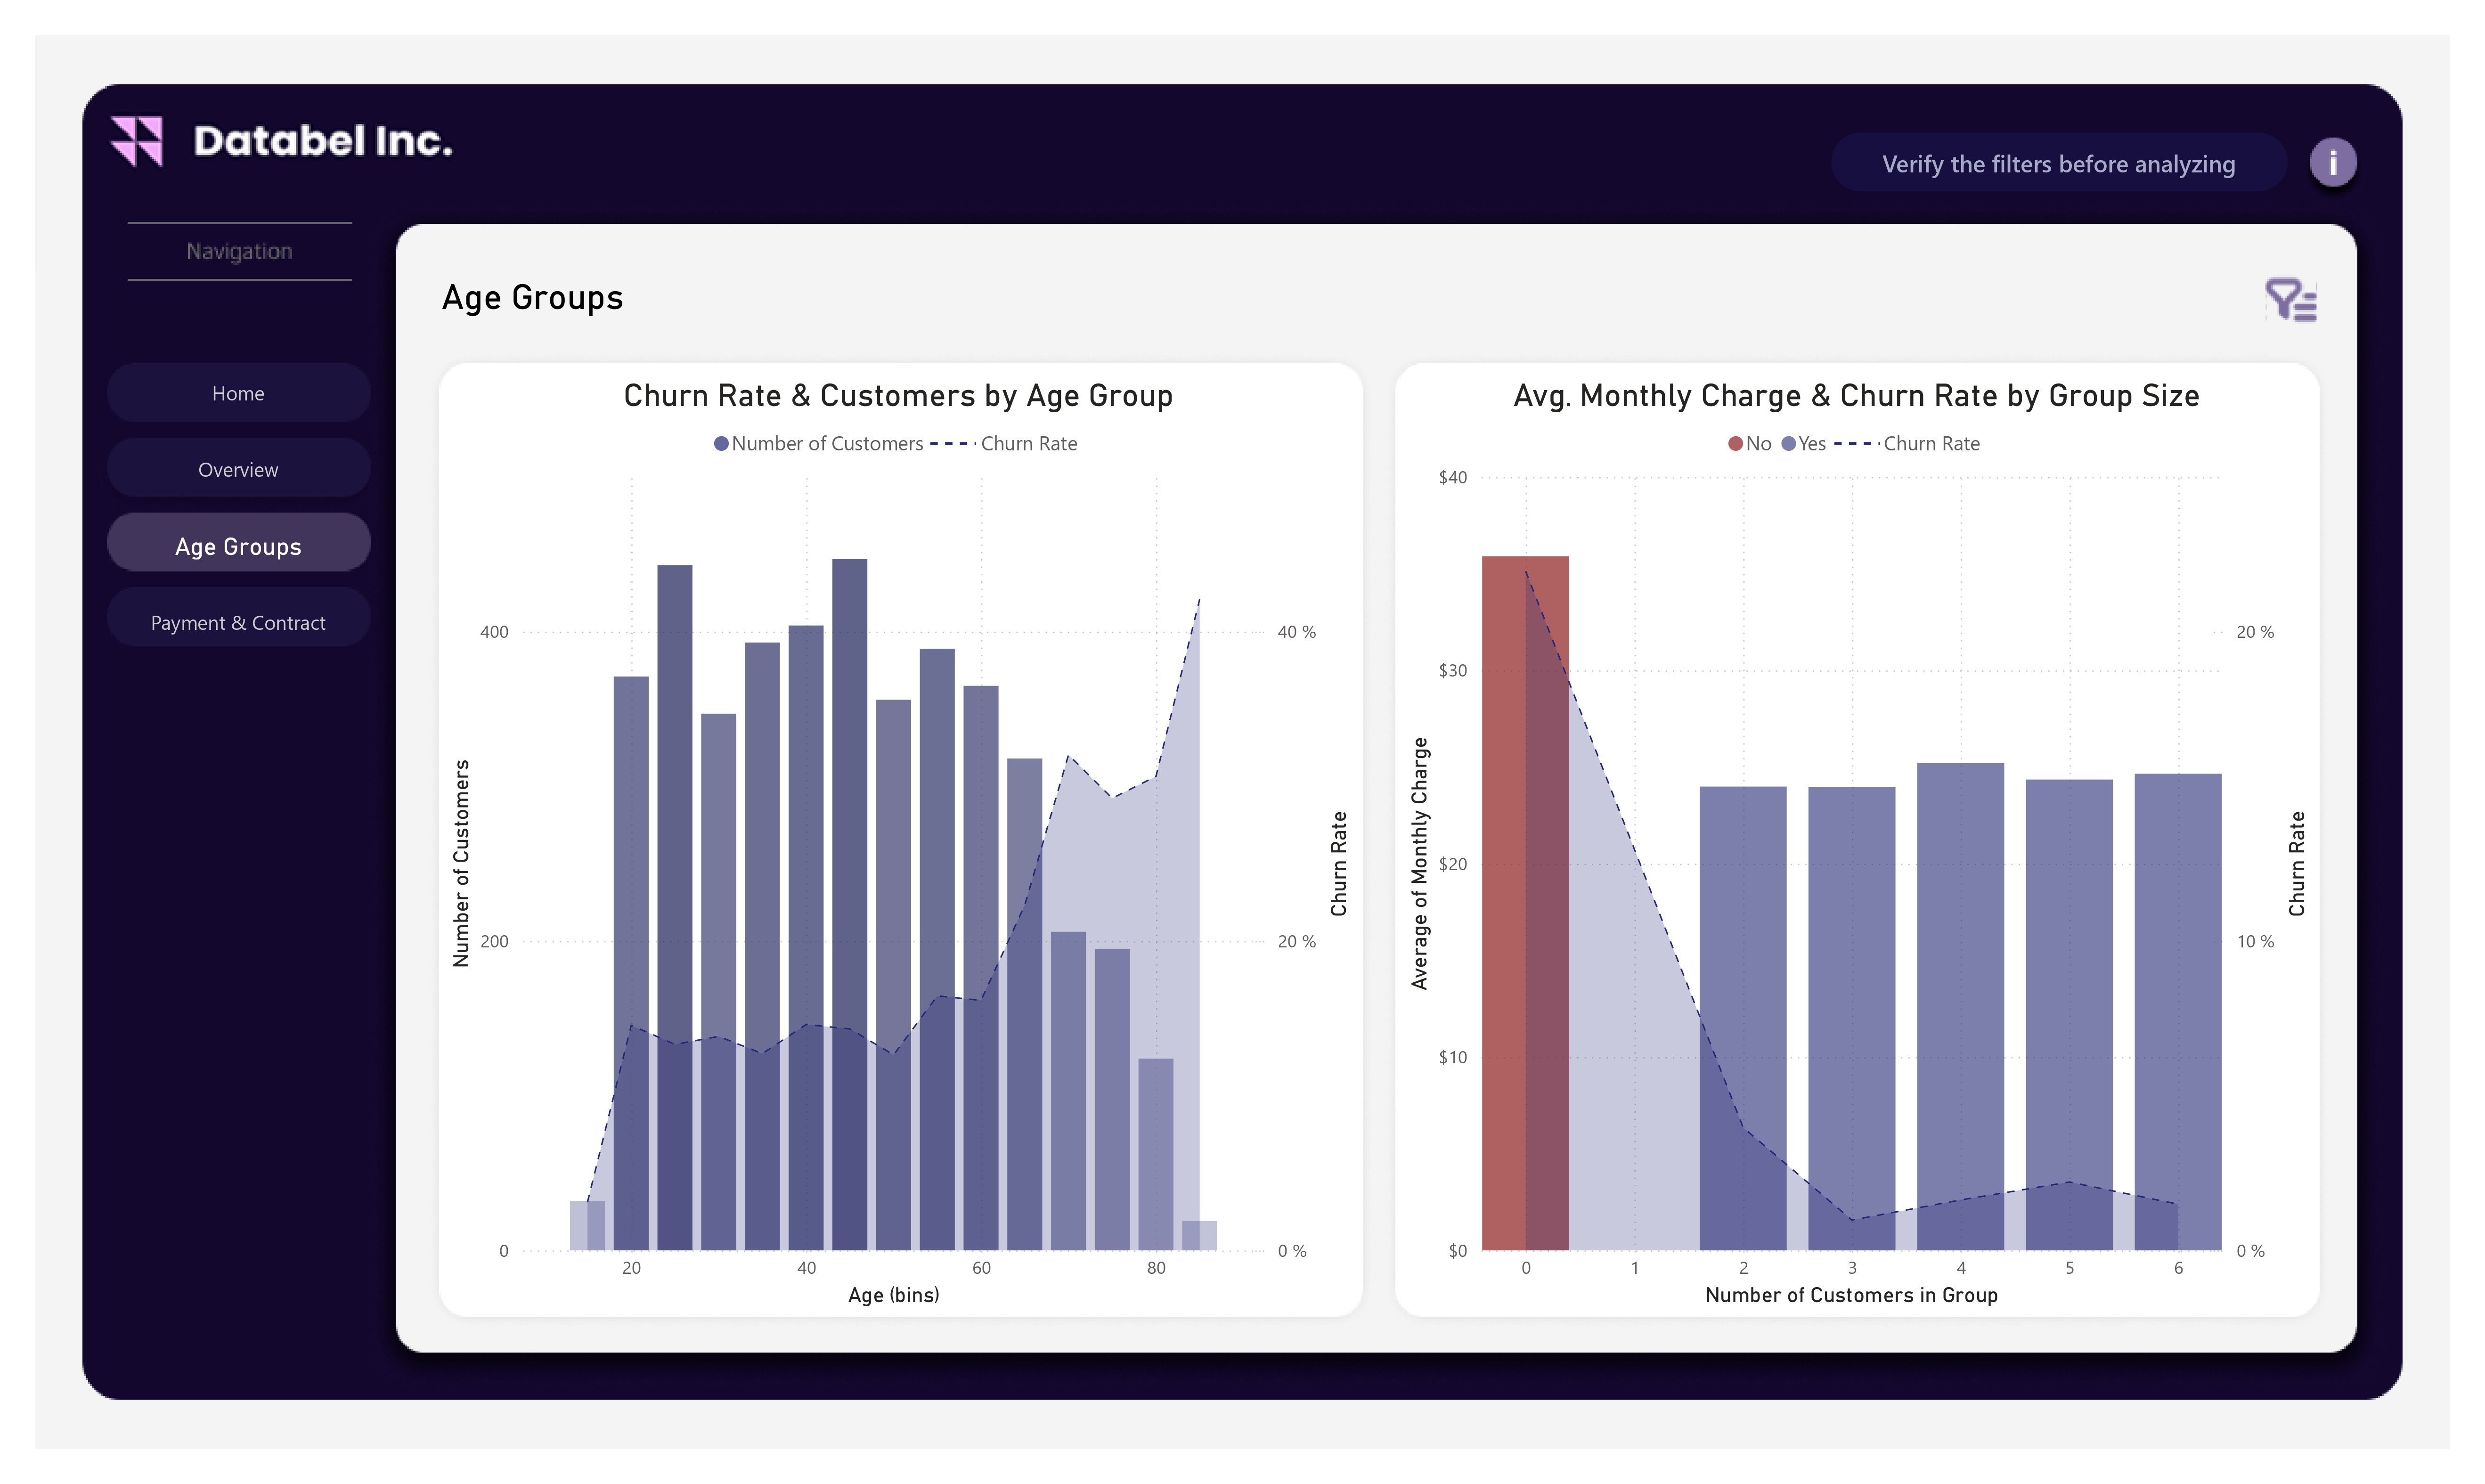

The page's visual inventory and layout, read from the dashboard file:
{"tool":"powerbi","page":{"name":"Age Groups","canvas":[1640,960],"ordinal":2},"visuals":[{"type":"lineStackedColumnComboChart","title":"Churn Rate & Customers by Age Group","fields":{"Category":["Databel - Data.Age (bins)"],"Y":["Databel - Data.Number of costumers"],"Y2":["Databel - Data.Churn Rate"]},"box":[271.4,222.4,630.9,650.4],"z":0},{"type":"lineStackedColumnComboChart","title":"Avg. Monthly Charge & Churn Rate by Group Size","fields":{"Category":["Databel - Data.Number of Customers in Group"],"Y":["Avg(Databel - Data.Monthly Charge)"],"Series":["Databel - Data.Group"],"Y2":["Databel - Data.Churn Rate"]},"box":[921.8,222.4,630.9,650.4],"z":1000},{"type":"pageNavigator","box":[49,222.4,177.6,197.2],"z":2000},{"type":"textbox","box":[271.4,159.5,465.8,61.5],"z":3000},{"type":"actionButton","box":[1514.9,159.5,35,40.6],"z":4000},{"type":"actionButton","box":[1219.8,65.7,310.5,40.6],"z":6000}]}

Visuals, with their boxes on the page's 1640x960 design canvas (x1, y1, x2, y2). These are canvas units, not pixel positions in the 2485x1484 screenshot, which may show the page scaled, cropped or inside an application window:
"Churn Rate & Customers by Age Group" lineStackedColumnComboChart: {"left": 271, "top": 222, "right": 902, "bottom": 873}
"Avg. Monthly Charge & Churn Rate by Group Size" lineStackedColumnComboChart: {"left": 922, "top": 222, "right": 1553, "bottom": 873}
pageNavigator: {"left": 49, "top": 222, "right": 227, "bottom": 420}
textbox: {"left": 271, "top": 160, "right": 737, "bottom": 221}
actionButton: {"left": 1515, "top": 160, "right": 1550, "bottom": 200}
actionButton: {"left": 1220, "top": 66, "right": 1530, "bottom": 106}
